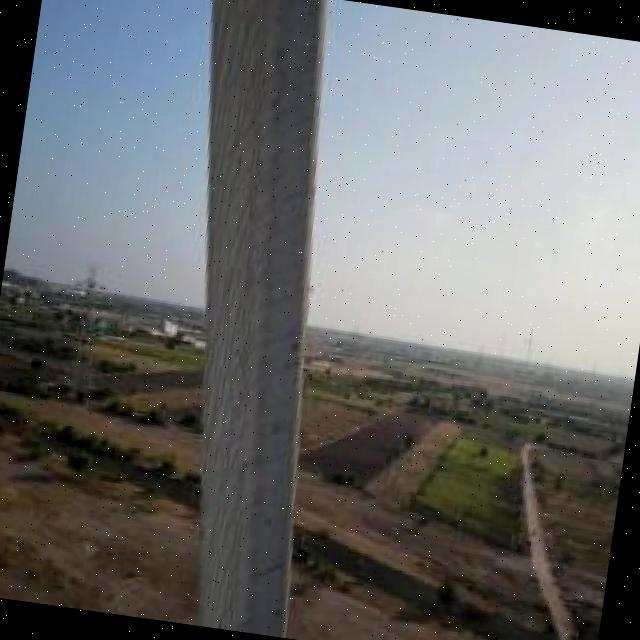Dirt: (188, 0, 327, 633)
